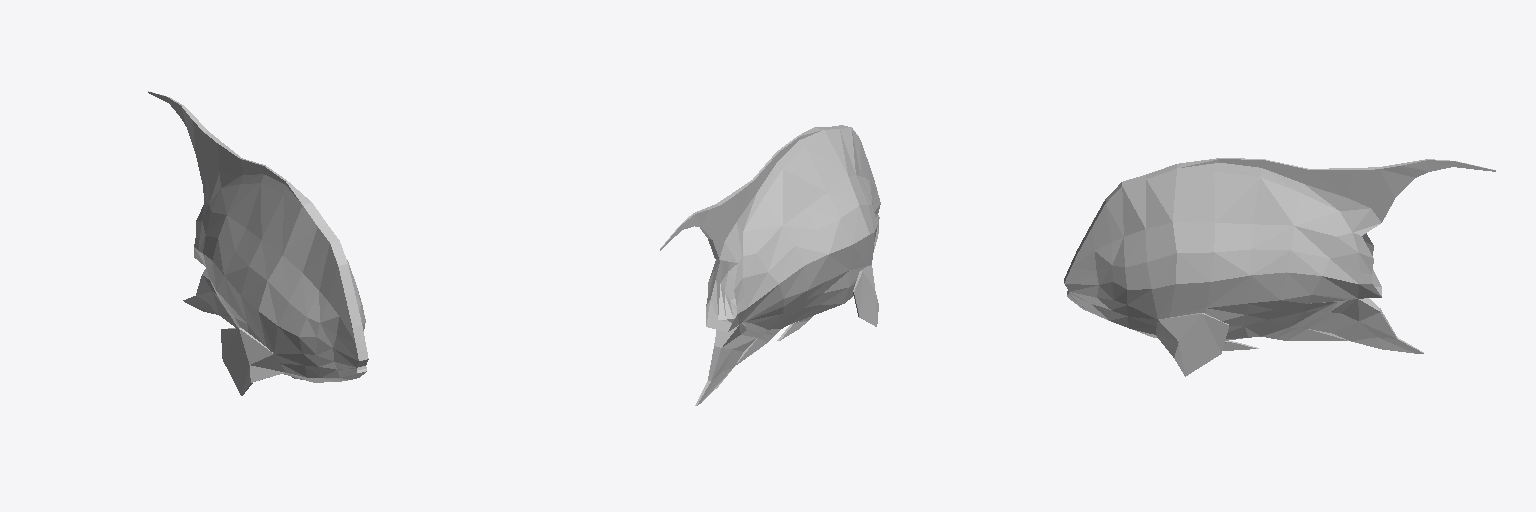
Rendered from cuerpo.obj.
3 renders of one model, left to right at view 1: azimuth 30°, elevation 25°; view 2: azimuth 150°, elevation 25°; view 3: azimuth 270°, elevation 25°, orthographic.
Visible parts, largest first — view 1: polySurface1 TropicalFish06:TropicalFish06; view 2: polySurface1 TropicalFish06:TropicalFish06; view 3: polySurface1 TropicalFish06:TropicalFish06.
Part boxes in pixels (x1,y1,x2,y2): polySurface1 TropicalFish06:TropicalFish06: (148, 91, 368, 395); polySurface1 TropicalFish06:TropicalFish06: (660, 125, 880, 405); polySurface1 TropicalFish06:TropicalFish06: (1064, 158, 1495, 376).
Bounding box in the file's own units: 1.53 × 2.28 × 4.58.